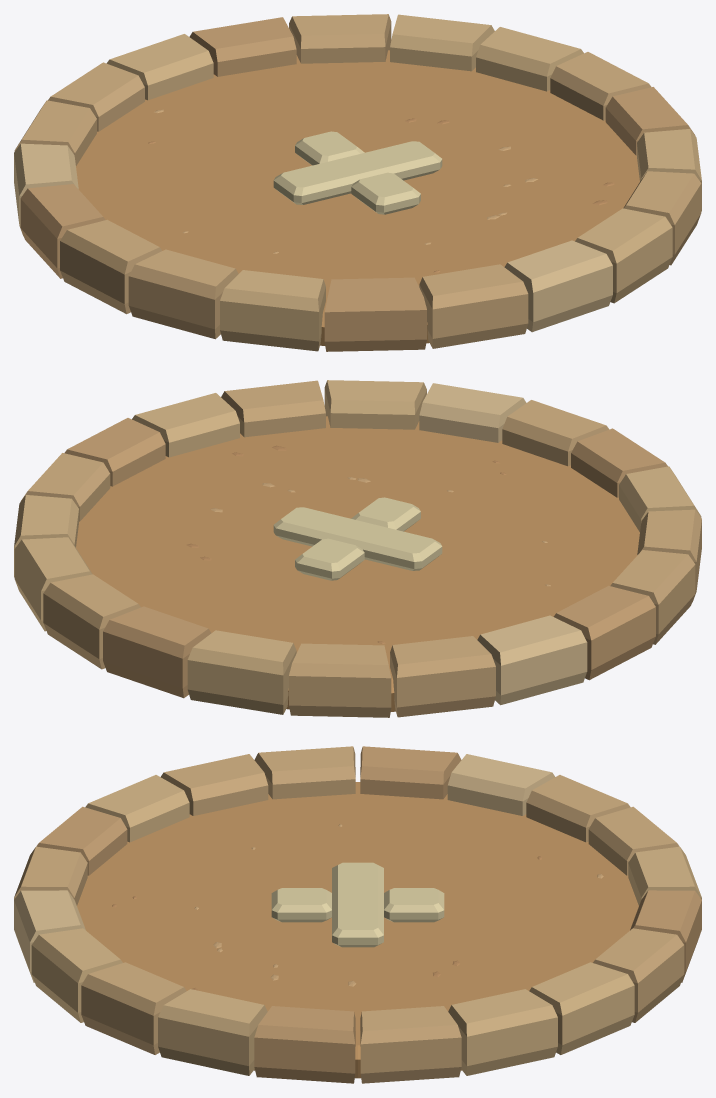
The model's file is plot.glb.
3 renders of one model, top to bottom at view 1: azimuth 30°, elevation 25°; view 2: azimuth 150°, elevation 25°; view 3: azimuth 270°, elevation 25°, orthographic.
Visible parts, largest first — view 1: Parcela; view 2: Parcela; view 3: Parcela.
Boxes of the visible parts, x1=… form: Parcela: x1=14, y1=14, x2=701, y2=351; Parcela: x1=14, y1=380, x2=701, y2=717; Parcela: x1=14, y1=746, x2=701, y2=1083.
Bounding box in the file's own units: 3.18 × 0.277 × 3.18.
